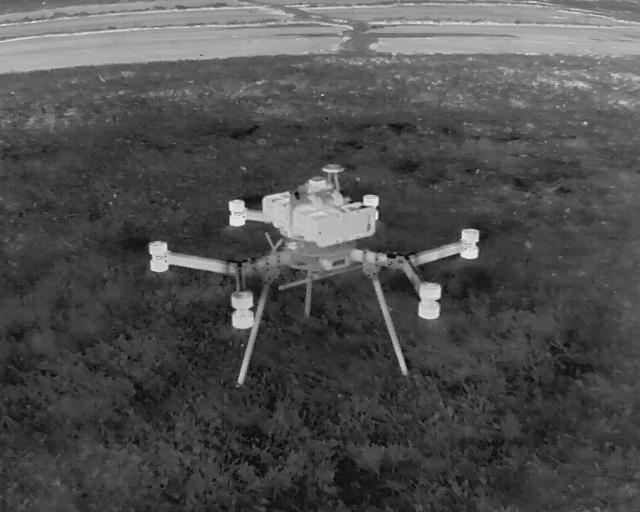drone: (102, 143, 525, 396)
